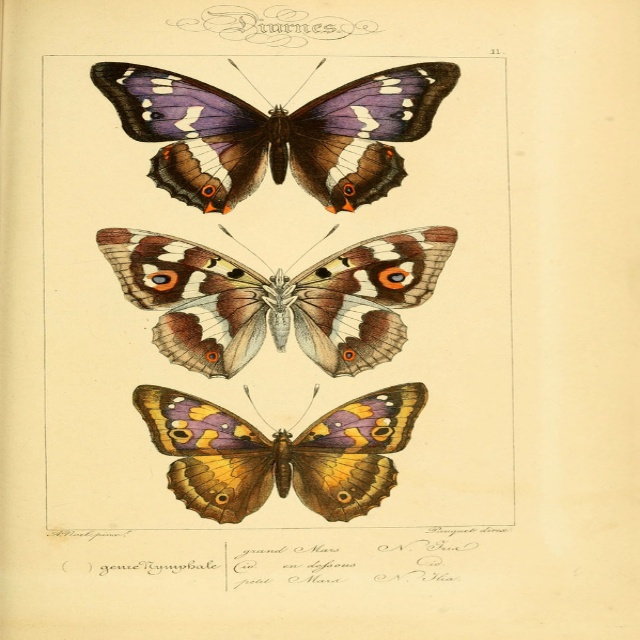Butterfly: (68, 50, 465, 211), (101, 226, 453, 378), (128, 389, 437, 525)
